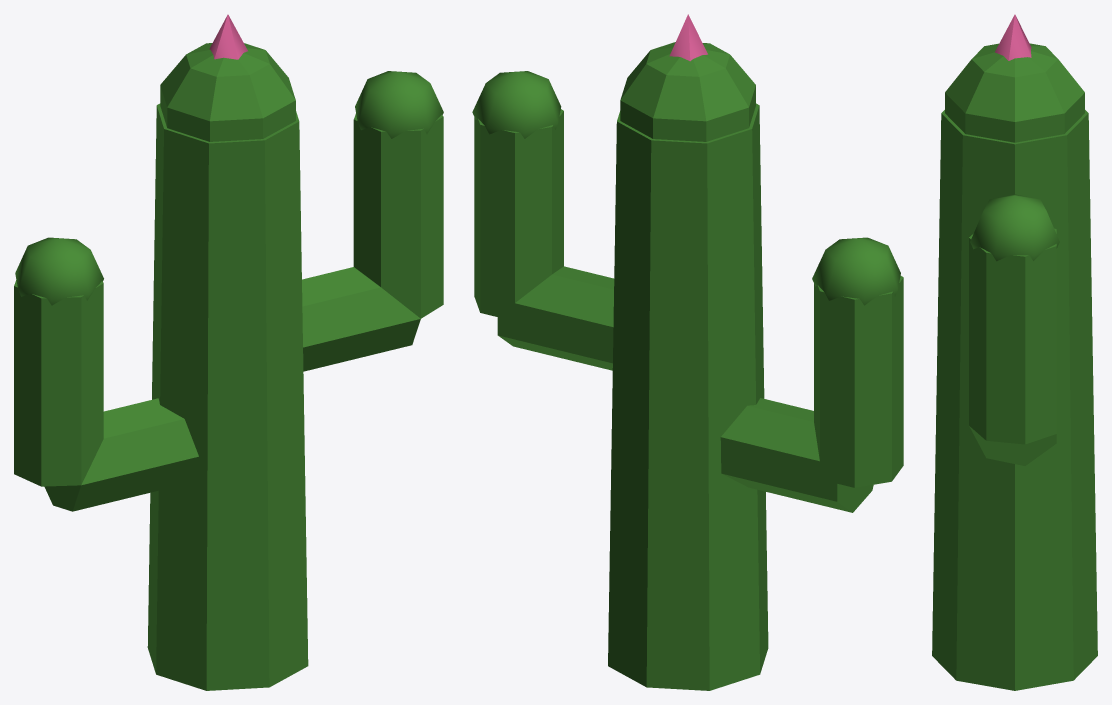
The model's file is cactus.glb.
The picture shows the model from 3 angles, left to right: view 1: azimuth 30°, elevation 25°; view 2: azimuth 150°, elevation 25°; view 3: azimuth 270°, elevation 25°; orthographic projection.
Visible parts, largest first — view 1: Cactus; view 2: Cactus; view 3: Cactus.
Boxes of the visible parts, bbox=[...] form: Cactus: bbox=[14, 14, 443, 690]; Cactus: bbox=[472, 14, 903, 690]; Cactus: bbox=[932, 14, 1097, 690].
Size of the model in its own units: 2.09 by 3.07 by 0.72.
